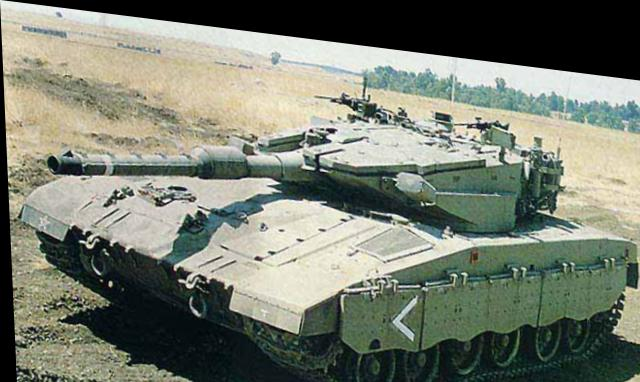tank: (12, 80, 640, 380)
